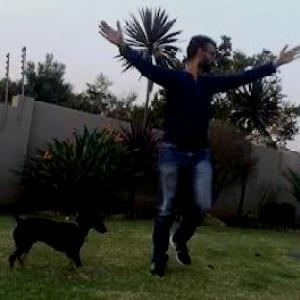takeoff: (95, 18, 299, 278)
